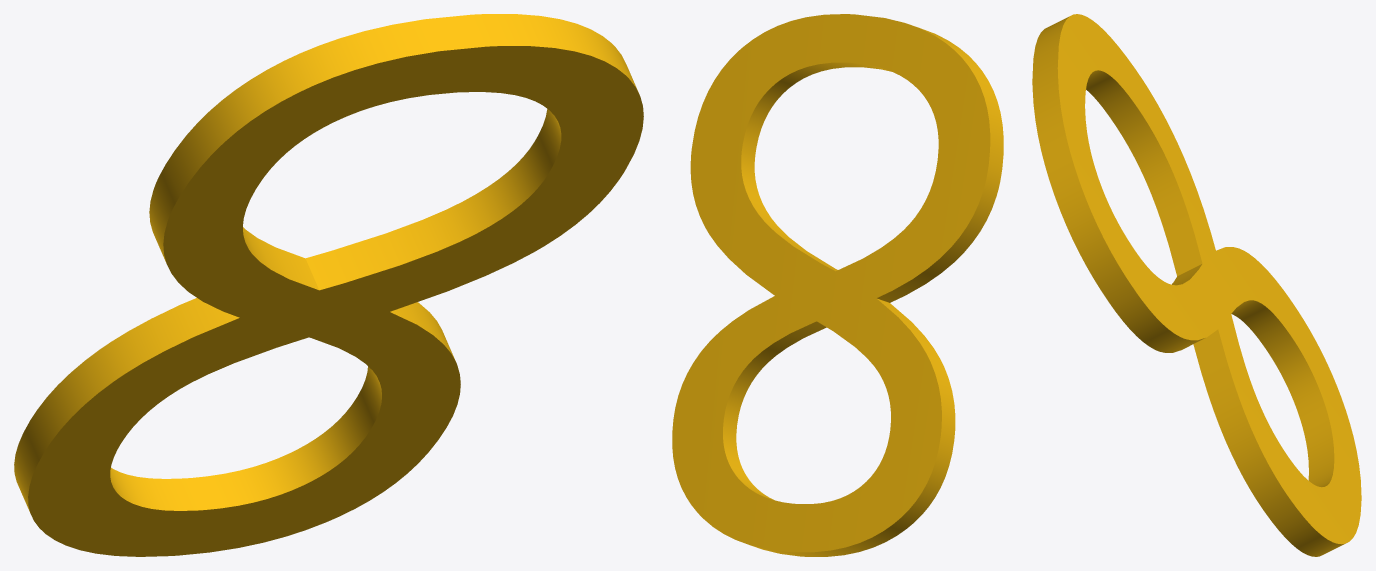
File: Number_8.gltf
The picture shows the model from 3 angles, left to right: view 1: azimuth 30°, elevation 25°; view 2: azimuth 150°, elevation 25°; view 3: azimuth 270°, elevation 25°; orthographic projection. The views are drawn at different scales.
Visible parts, largest first — view 1: Sub_9_Cell_1_3_Number_8; view 2: Sub_9_Cell_1_3_Number_8; view 3: Sub_9_Cell_1_3_Number_8.
Part boxes in pixels (<box>): Sub_9_Cell_1_3_Number_8: <box>14,14,643,556</box>; Sub_9_Cell_1_3_Number_8: <box>672,14,1003,556</box>; Sub_9_Cell_1_3_Number_8: <box>1032,14,1361,556</box>.
Bounding box in the file's own units: 0.0177 × 0.0232 × 0.014.
